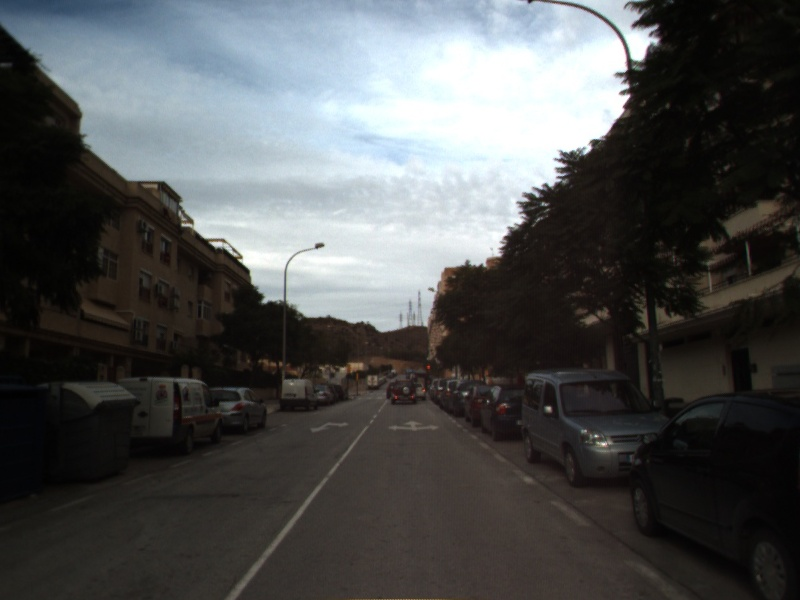STRAIGHT_LEFT_RIGHT: (386, 417, 441, 433)
